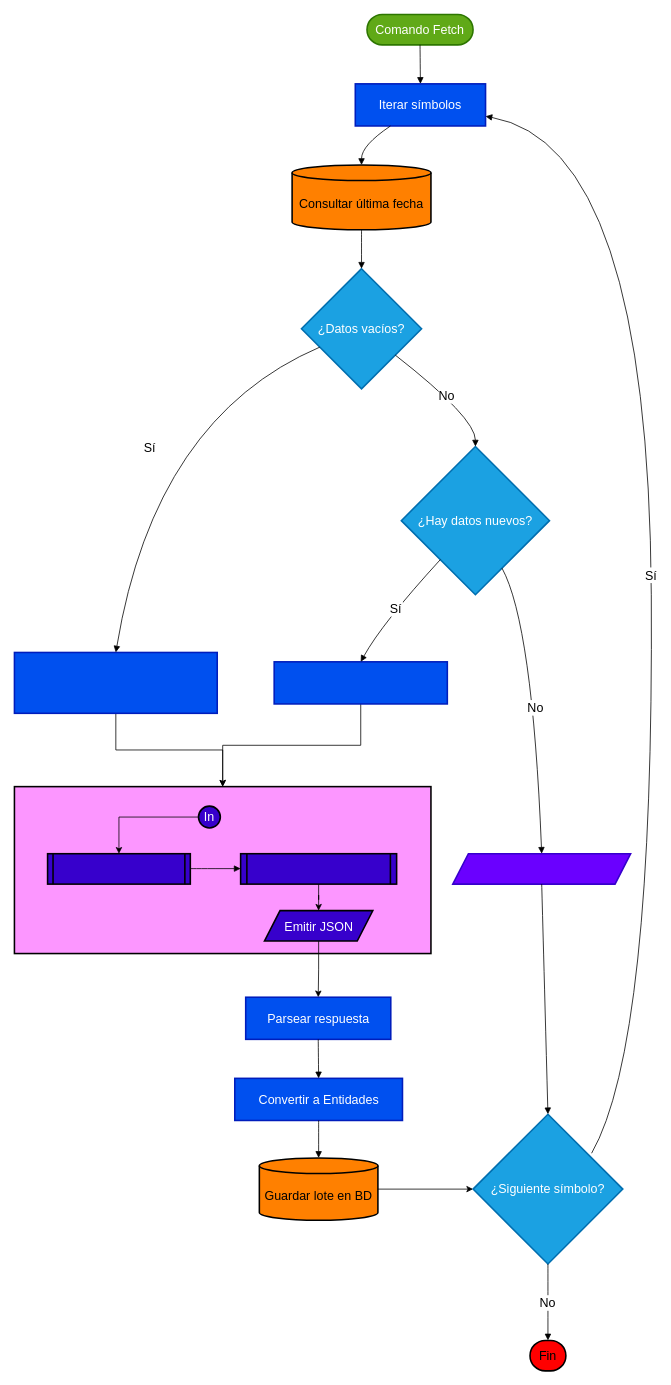
Image size: 671x1385. Some labels were removed from this diagram. Here are the shapes that lost their labels. From the top down, the box of each, then its label:
(13, 651, 218, 714): Set Modo: Descarga Completa
(273, 661, 448, 704): Set Modo: Incremental
(46, 853, 191, 885): Conectar API Binance
(13, 785, 431, 954): Proceso ETL Externo
(239, 853, 397, 885): Descargar velas 'OHLCV'
(452, 853, 631, 885): Log: 'Datos actualizados'
